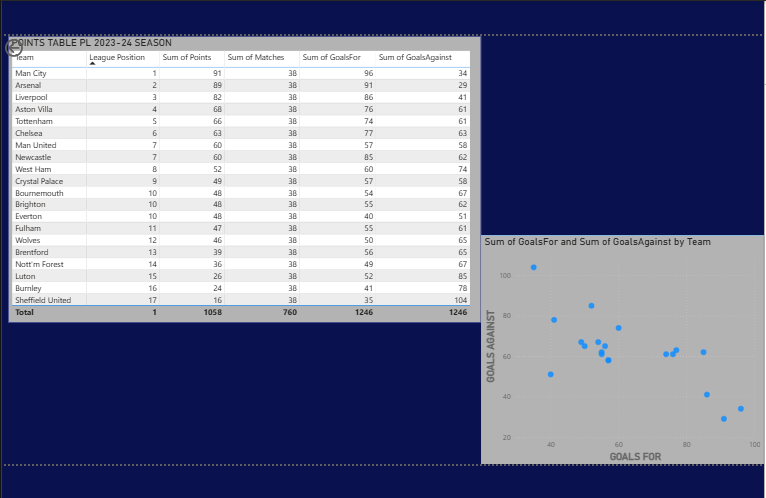

Layout of this report page (visuals, bound fields, positions):
{"tool":"powerbi","page":{"name":"Page 1","canvas":[1280,720],"ordinal":0},"visuals":[{"type":"tableEx","title":"POINTS TABLE PL 2023-24 SEASON","fields":{"Values":["team_summary.Team","team_summary.League Position","Sum(team_summary.Points)","Sum(team_summary.Matches)","Sum(team_summary.GoalsFor)","Sum(team_summary.GoalsAgainst)"]},"box":[10.1,0,794.5,482.1],"z":0},{"type":"actionButton","box":[0,0,100,40],"z":1000},{"type":"scatterChart","fields":{"Category":["team_summary.Team"],"X":["Sum(team_summary.GoalsFor)"],"Y":["team_summary.GoalsAgainst"]},"box":[804.6,334.3,475.4,386.4],"z":2000}]}

Visuals, with their boxes in screenshot pixels (x1, y1, x2, y2):
"POINTS TABLE PL 2023-24 SEASON" tableEx: 10, 34, 479, 318
actionButton: 4, 34, 63, 58
scatterChart - team_summary.Team x Sum(team_summary.GoalsFor): 479, 231, 759, 459
